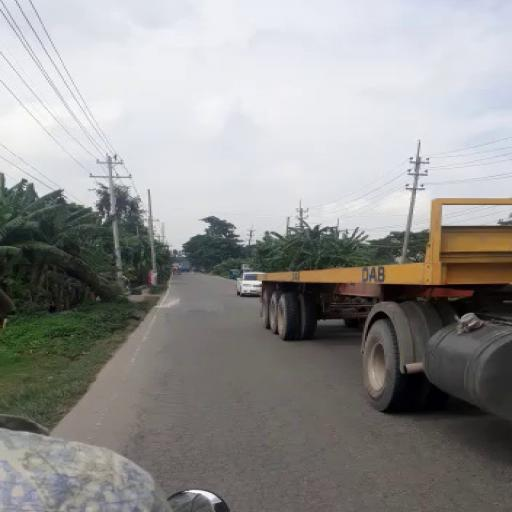car: (232, 270, 266, 295)
truck: (259, 198, 512, 413)
